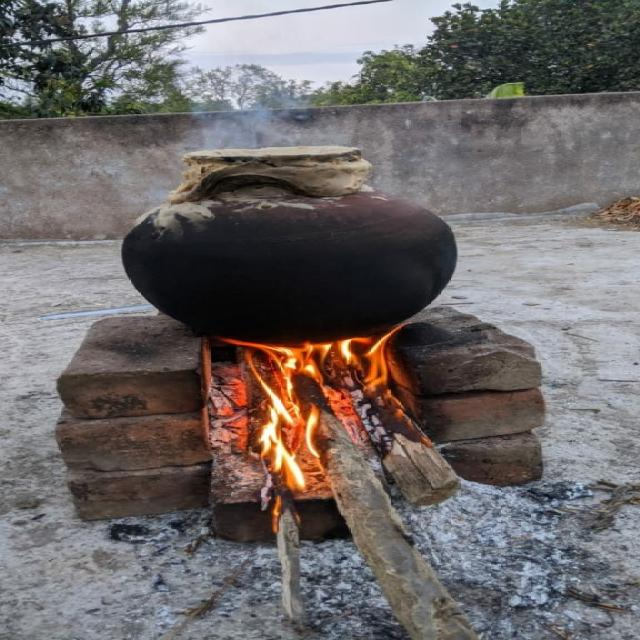fire: (221, 338, 323, 492), (337, 322, 405, 390)
